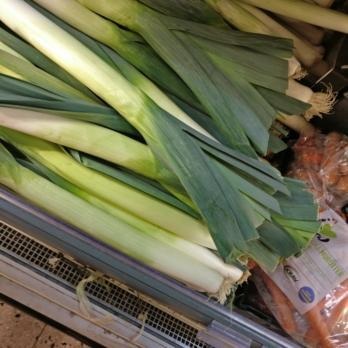Leek Leaves: (0, 0, 291, 273)
